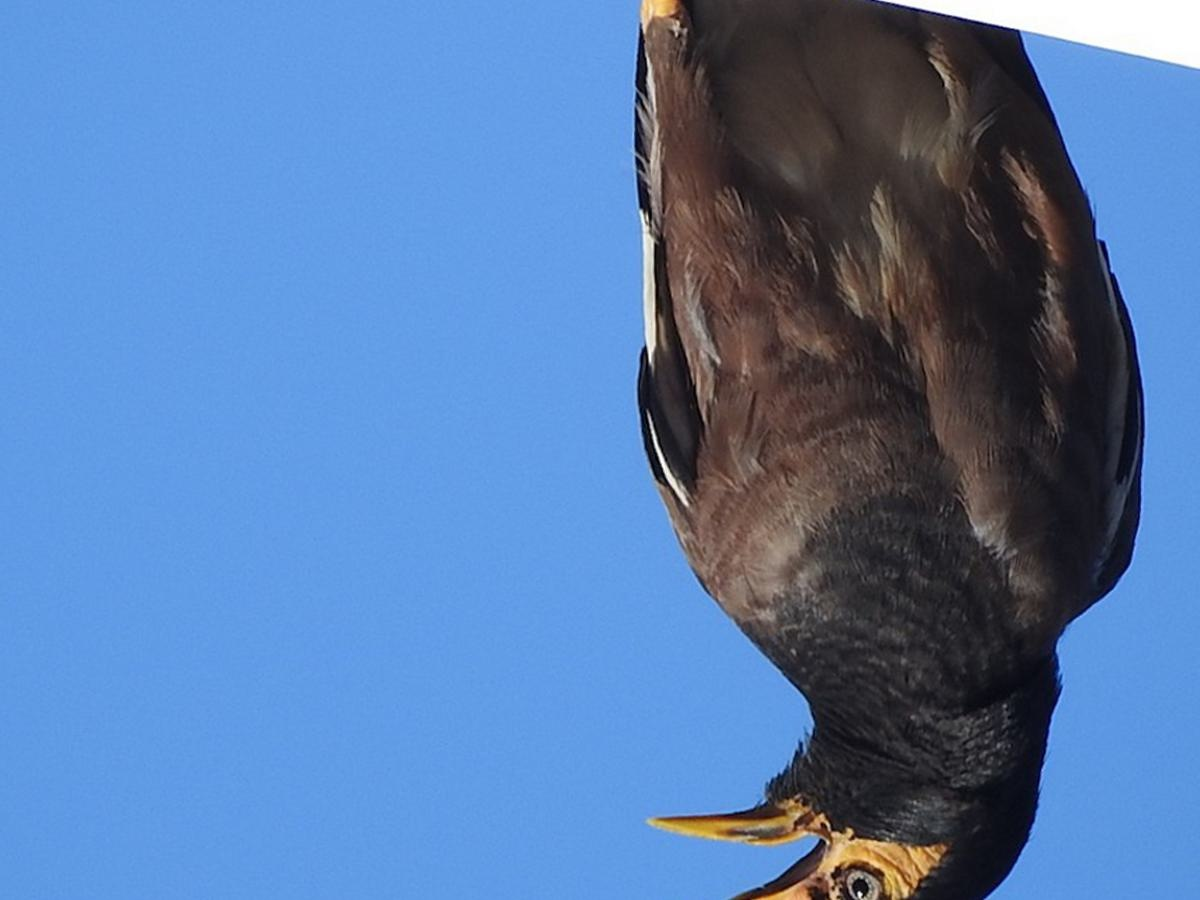myna: (564, 5, 1096, 900)
